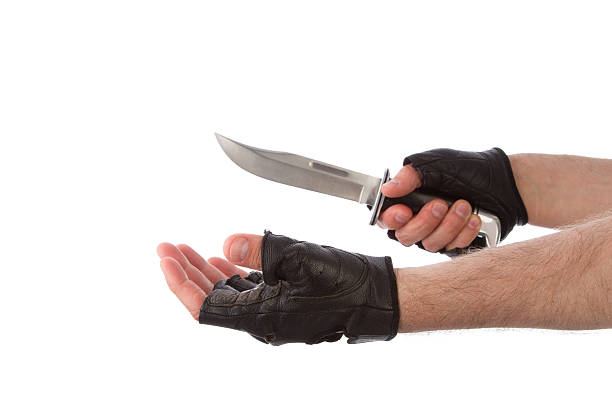knife: (212, 130, 504, 251)
